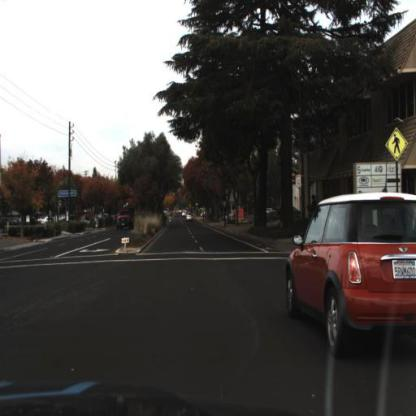car: (285, 194, 416, 356), (116, 208, 136, 231), (186, 213, 195, 223)
